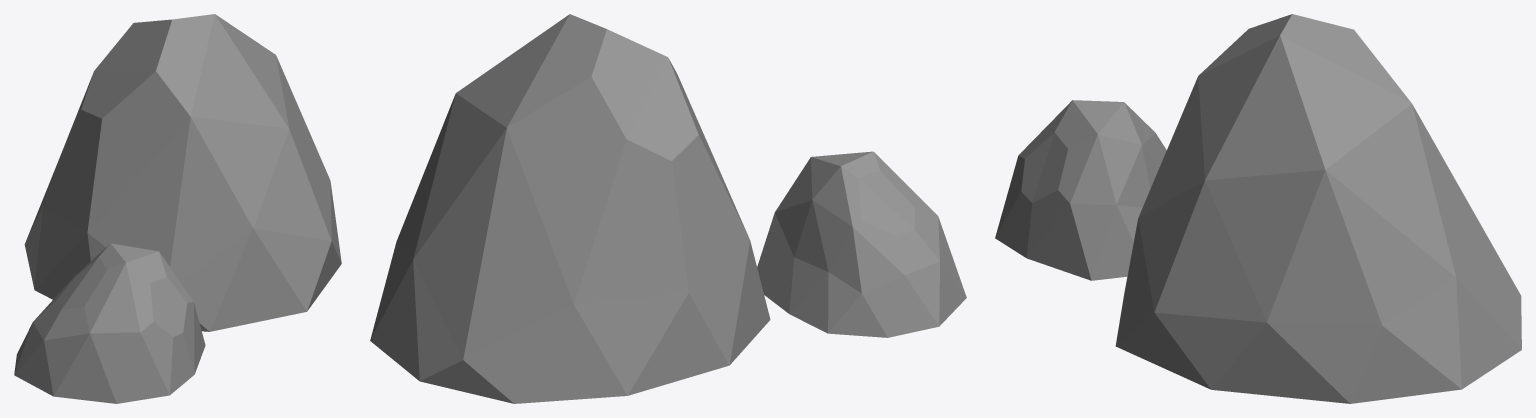
Rendered from PlainsStone(2).fbx.
The picture shows the model from 3 angles, left to right: view 1: azimuth 30°, elevation 25°; view 2: azimuth 150°, elevation 25°; view 3: azimuth 270°, elevation 25°; orthographic projection. The views are drawn at different scales.
Visible parts, largest first — view 1: PlainsStone(2); view 2: PlainsStone(2); view 3: PlainsStone(2).
Part boxes in pixels (x1=…): PlainsStone(2): x1=14, y1=14, x2=341, y2=403; PlainsStone(2): x1=370, y1=14, x2=966, y2=403; PlainsStone(2): x1=995, y1=14, x2=1521, y2=403.
Bounding box in the file's own units: 1.61 × 1.02 × 1.62.
